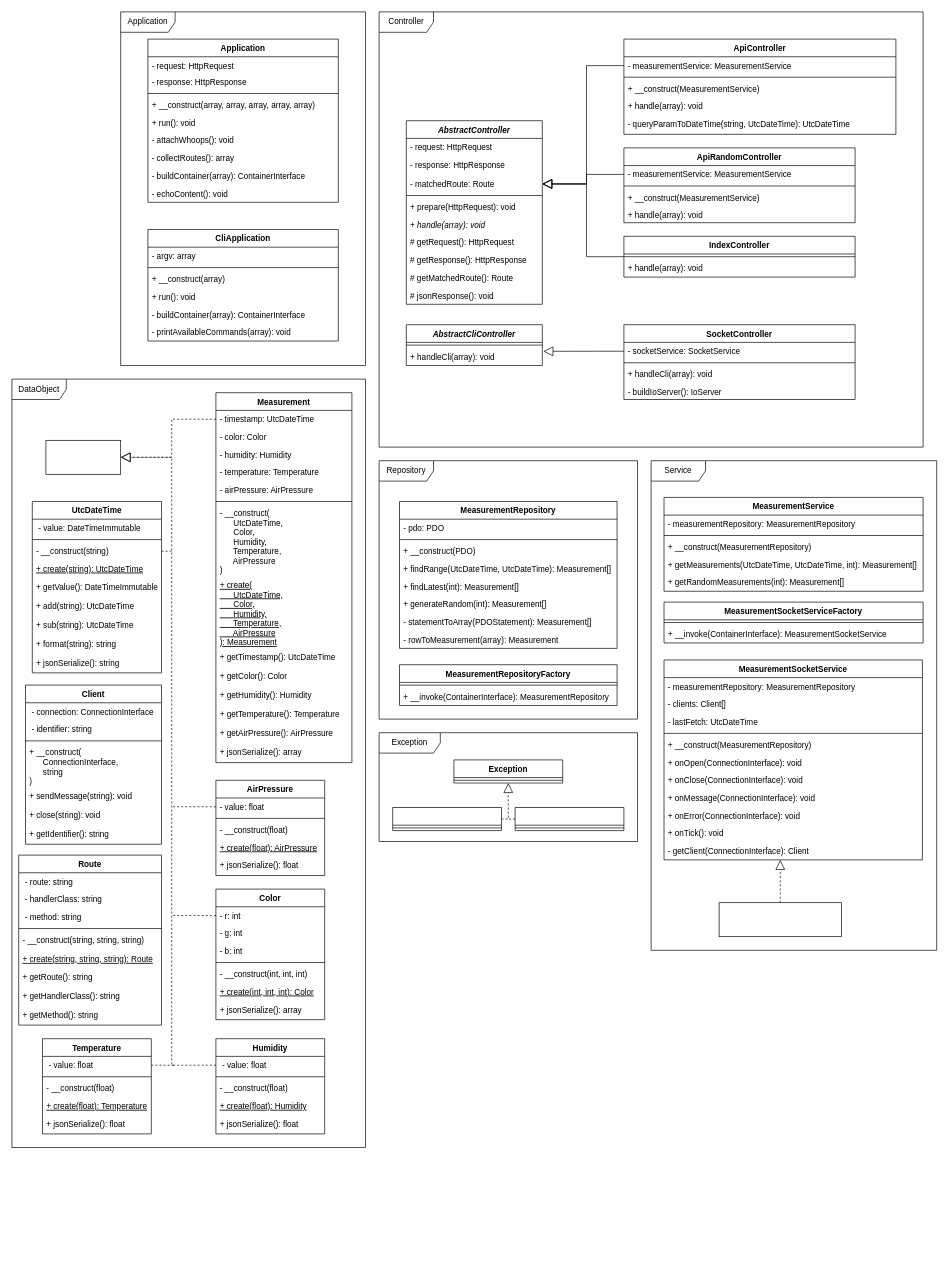
The diagram is 949 pixels wide and 1282 high, and some of its shapes have lost their labels. Each missing label, with the centre of its shape:
"InvalidControllerException" belongs at (447,819).
"InvalidDate" belongs at (569,819).
"«interface» JsonSerialize" belongs at (83,457).
"«interface» MessageComponentInterface" belongs at (780,919).
